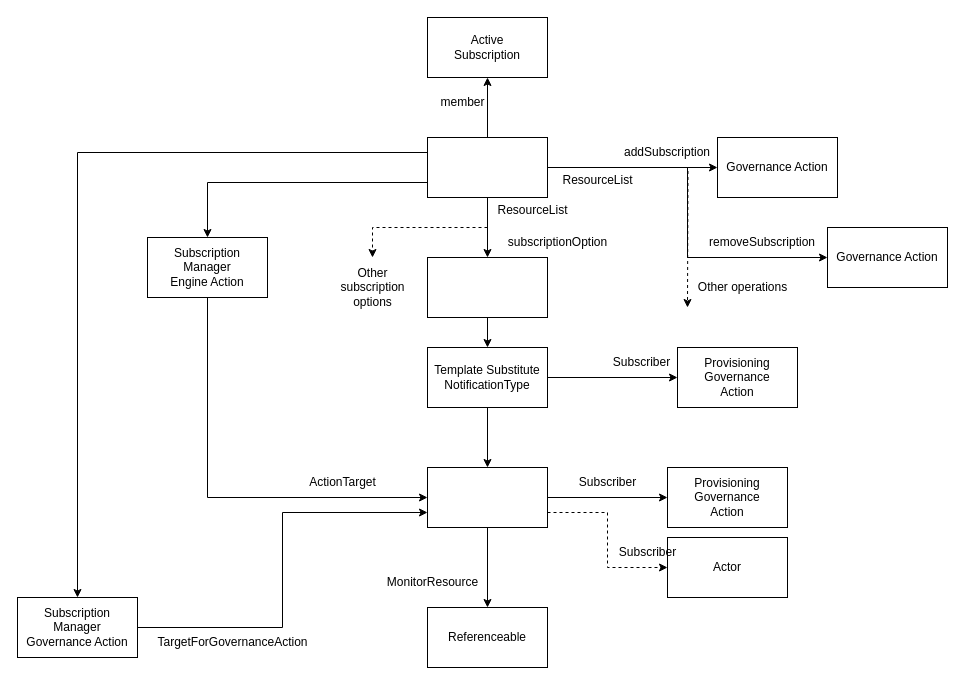
The diagram is 965 pixels wide and 685 high, and some of its shapes have lost their labels. Here are the shapes that lost their labels. From the top down, the centre of each, then its label:
[487,167]: Digital Product
[487,287]: Digital Subscription Template
[487,497]: NotificationType
